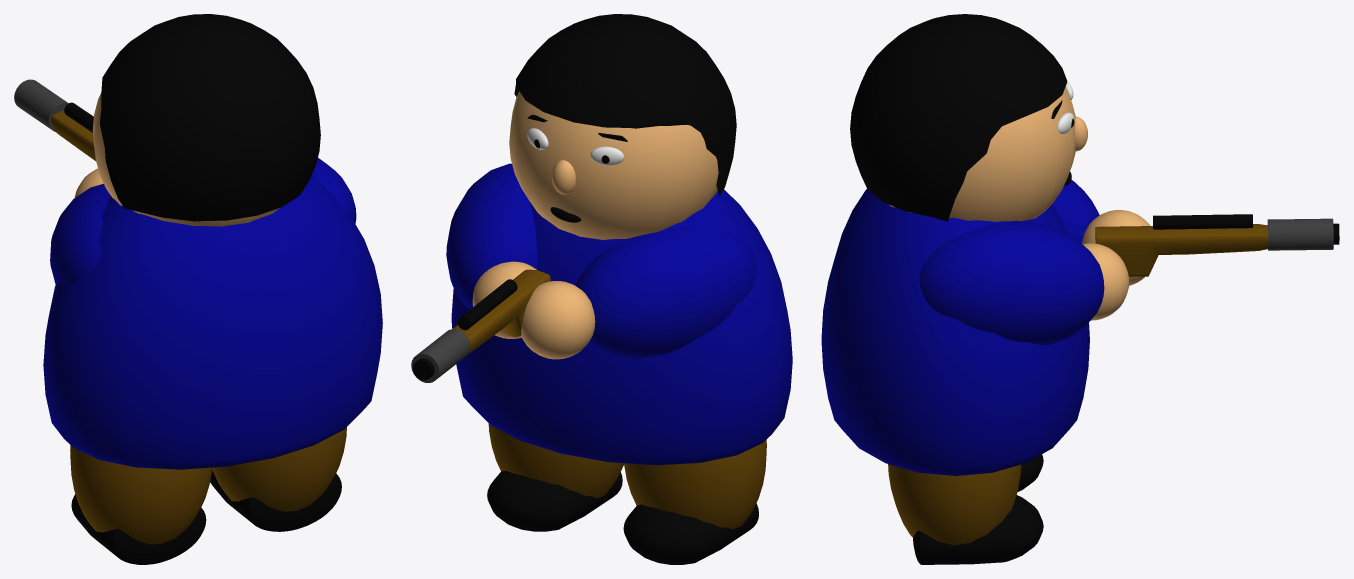
The model's file is enemy2.fbx.
3 views of the same model, side by side, from view 1: azimuth 30°, elevation 25°; view 2: azimuth 150°, elevation 25°; view 3: azimuth 270°, elevation 25° (orthographic).
Visible parts, largest first — view 1: pSphere23; view 2: pSphere23; view 3: pSphere23.
Boxes of the visible parts, x1=… form: pSphere23: x1=14, y1=14, x2=382, y2=564; pSphere23: x1=411, y1=14, x2=792, y2=564; pSphere23: x1=821, y1=14, x2=1339, y2=564.
Bounding box in the file's own units: 1.5 × 2.32 × 2.18.
